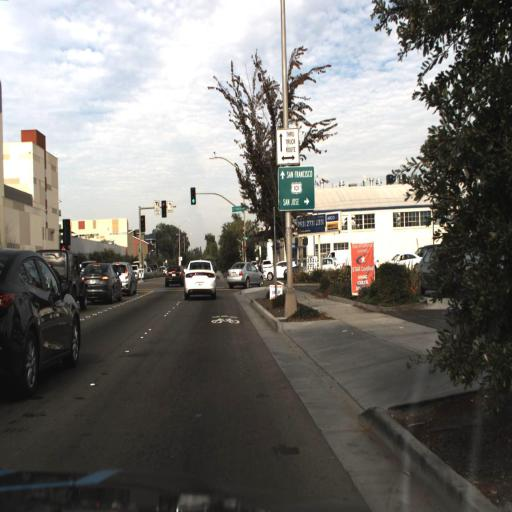car: (0, 253, 82, 396), (181, 253, 218, 300), (81, 263, 123, 304), (226, 258, 265, 287), (109, 262, 138, 297), (163, 259, 187, 294)
trafficLight-Green: (189, 185, 198, 209)
